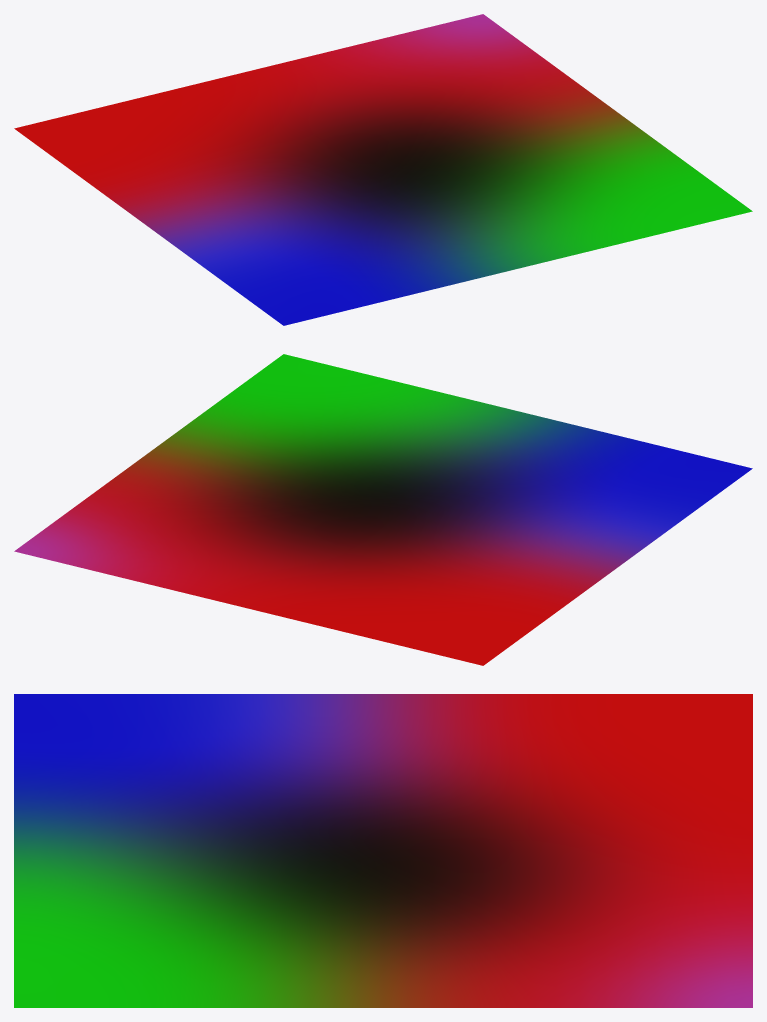
Rendered from Sample_Vertex_Color_Plane.fbx.
3 views of the same model, one above another, from view 1: azimuth 30°, elevation 25°; view 2: azimuth 150°, elevation 25°; view 3: azimuth 270°, elevation 25° (orthographic). The views are drawn at different scales.
Visible parts, largest first — view 1: Vertex_Color_Sample_Plane; view 2: Vertex_Color_Sample_Plane; view 3: Vertex_Color_Sample_Plane.
Boxes of the visible parts, x1,y1,x2,y2 form: Vertex_Color_Sample_Plane: (14,14,752,325); Vertex_Color_Sample_Plane: (14,354,752,665); Vertex_Color_Sample_Plane: (14,694,752,1007).
Size of the model in its own units: 32.54 by 7.19e-15 by 32.39.
